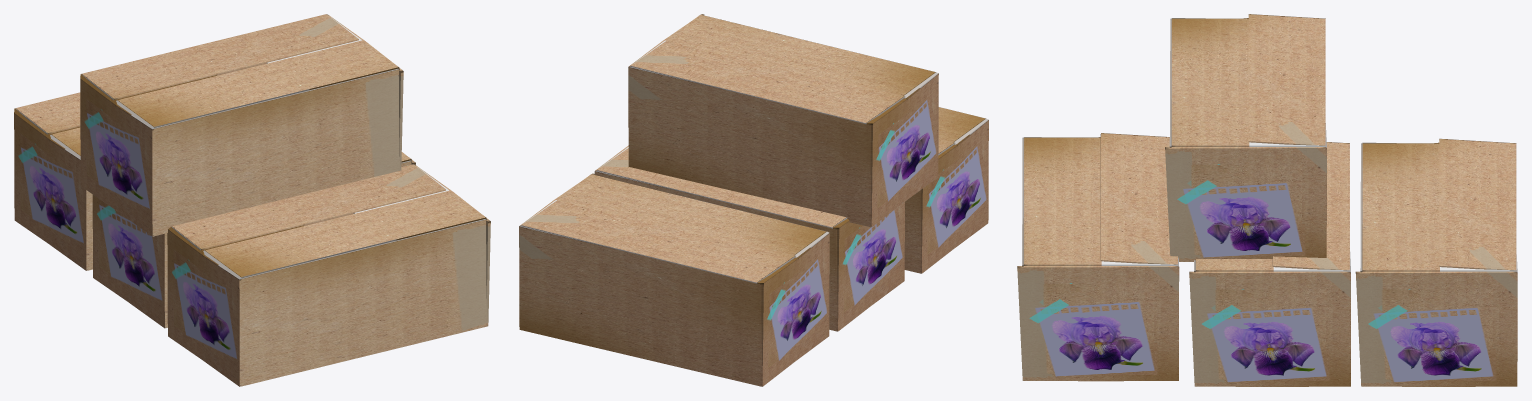
File: caja_girasol.glb
3 views of the same model, side by side, from view 1: azimuth 30°, elevation 25°; view 2: azimuth 150°, elevation 25°; view 3: azimuth 270°, elevation 25° (orthographic). The views are drawn at different scales.
Parts seen in each view (by area): view 1: Cube.004, Cube.005, Cube.001, Cube; view 2: Cube.001, Cube.005, Cube, Cube.004; view 3: Cube.001, Cube.005, Cube.004, Cube.
Part boxes in pixels (x1,y1,x2,y2): Cube.004: (167, 164, 490, 386); Cube.005: (80, 14, 403, 236); Cube.001: (14, 92, 92, 270); Cube: (92, 152, 415, 328); Cube.001: (519, 173, 829, 386); Cube.005: (628, 14, 938, 227); Cube: (594, 145, 904, 331); Cube.004: (904, 107, 988, 273); Cube.001: (1355, 138, 1517, 386); Cube.005: (1165, 14, 1326, 261); Cube.004: (1017, 133, 1179, 381); Cube: (1189, 142, 1350, 386).
Size of the model in its own units: 2.34 by 1.77 by 3.47.
Materials: 3 (3 with a texture image).
